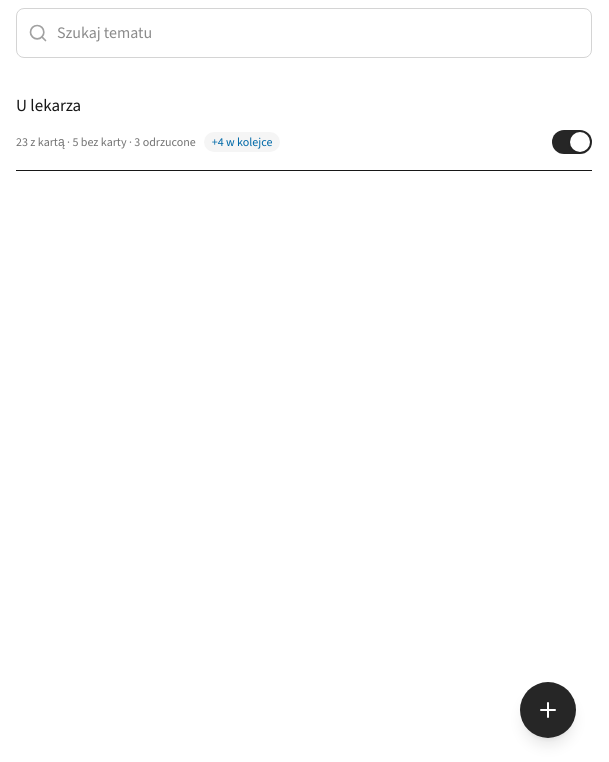
TopicsPage › shows an error when switching a topic fails
Click the switch named "włączony": (572, 142) [552,126,592,158]
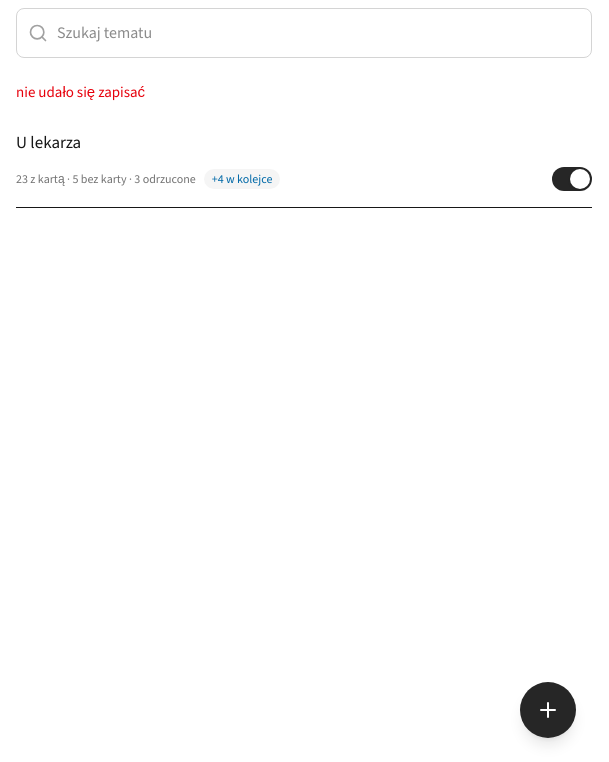
Now the text "nie udało się zapisać" is shown, box [16,82,145,102]
